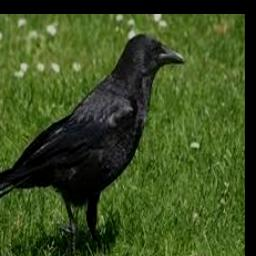Crow: (0, 34, 186, 251)
